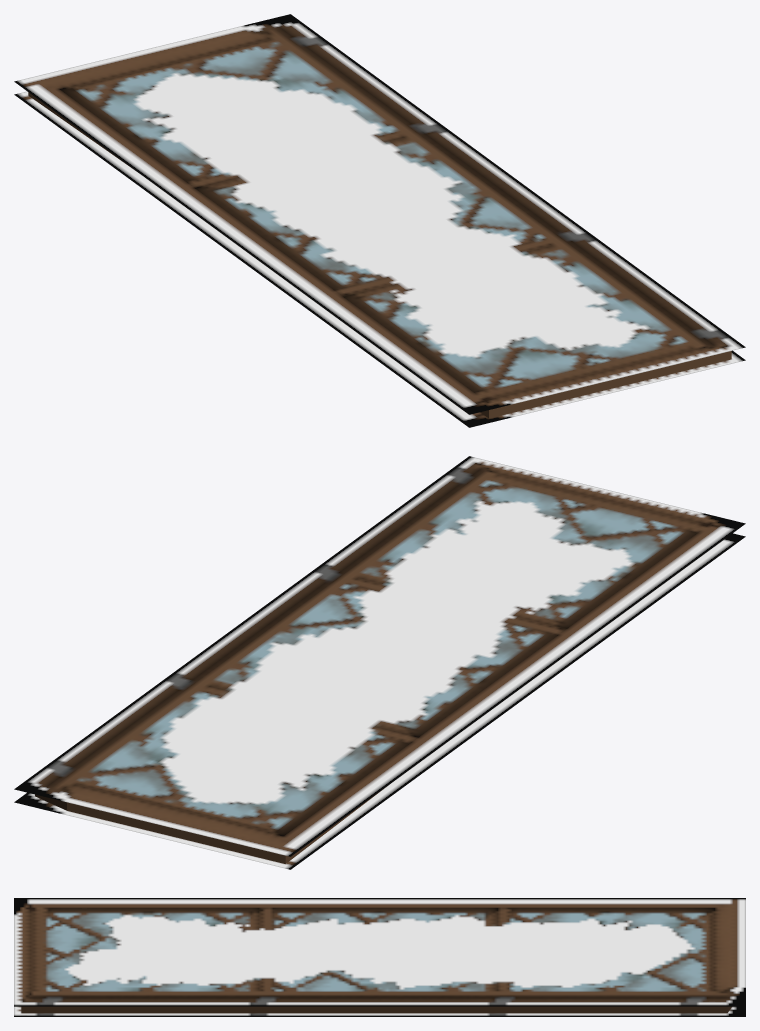
Rendered from pz_native_fixtures_windows_church_85_frame.obj.
The picture shows the model from 3 angles, top to bottom: view 1: azimuth 30°, elevation 25°; view 2: azimuth 150°, elevation 25°; view 3: azimuth 270°, elevation 25°; orthographic projection. The views are drawn at different scales.
Parts seen in each view (by area): view 1: pz_native_fixtures_windows_church_85_frame; view 2: pz_native_fixtures_windows_church_85_frame; view 3: pz_native_fixtures_windows_church_85_frame.
Boxes of the visible parts, box(x1,y1,x2,y2) form: pz_native_fixtures_windows_church_85_frame: box(14, 14, 745, 427); pz_native_fixtures_windows_church_85_frame: box(14, 456, 745, 869); pz_native_fixtures_windows_church_85_frame: box(14, 898, 745, 1016).
Size of the model in its own units: 0.8906 by 0.04 by 2.54.
Materials: 1 (1 with a texture image).
